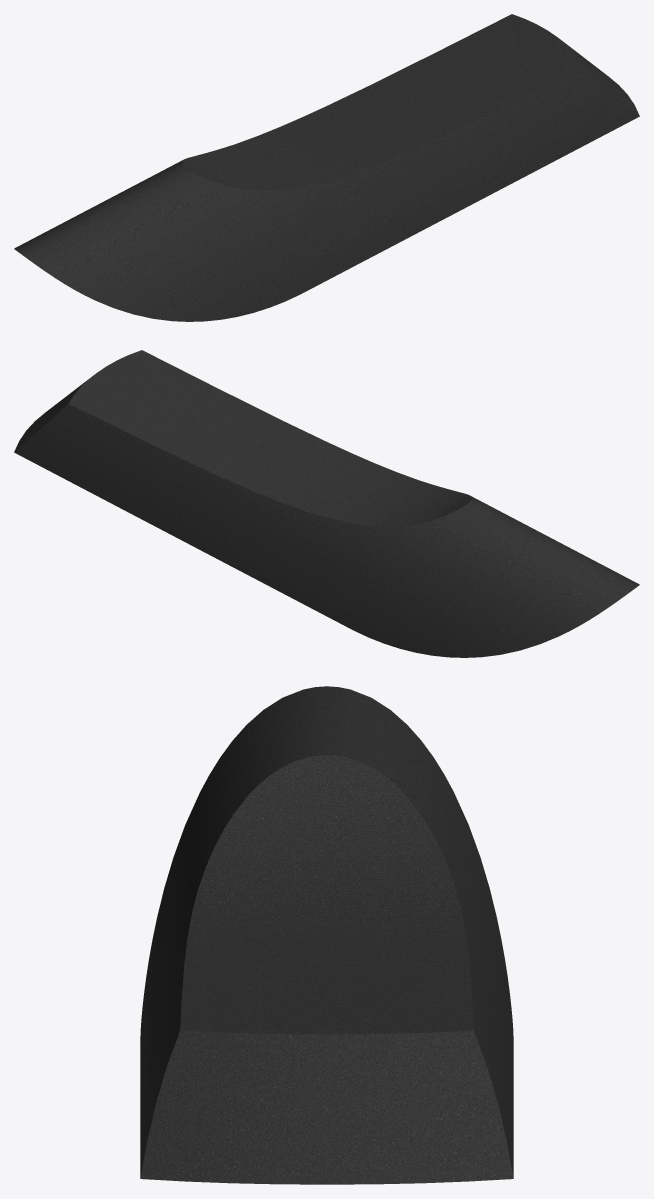
The model's file is Viatana.glb.
3 renders of one model, top to bottom at view 1: azimuth 30°, elevation 25°; view 2: azimuth 150°, elevation 25°; view 3: azimuth 270°, elevation 25°, orthographic. The views are drawn at different scales.
Visible parts, largest first — view 1: Trilux Viatana; view 2: Trilux Viatana; view 3: Trilux Viatana.
Part boxes in pixels (box(x1,y1,x2,y2)): Trilux Viatana: box(14, 14, 639, 321); Trilux Viatana: box(14, 350, 639, 657); Trilux Viatana: box(140, 686, 513, 1184).
Bounding box in the file's own units: 0.8329 × 0.2143 × 0.2299.
Materials: 3 (2 with a texture image).
